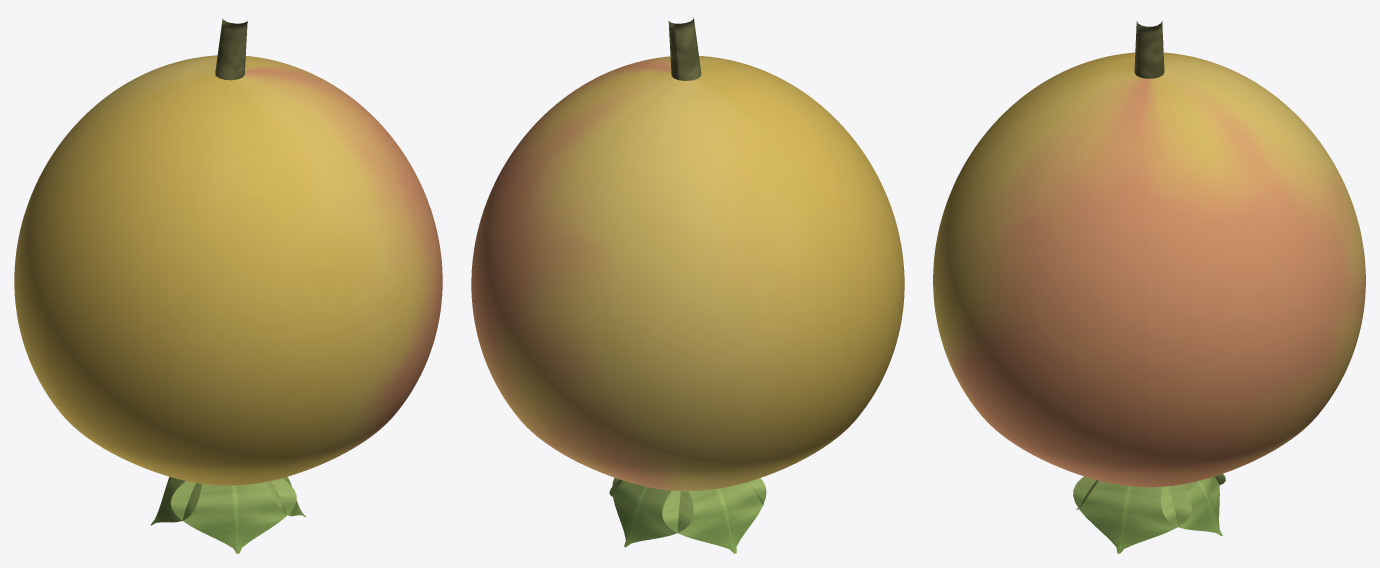
File: jamrosa.glb
The picture shows the model from 3 angles, left to right: view 1: azimuth 30°, elevation 25°; view 2: azimuth 150°, elevation 25°; view 3: azimuth 270°, elevation 25°; orthographic projection.
Parts seen in each view (by area): view 1: entier_peau, moitie_A_peau, moitie_B_peau, entier_extra1, entier_extra4, entier_extra2; view 2: entier_peau, moitie_B_peau, moitie_A_peau, entier_extra2, entier_extra3, entier_extra4; view 3: entier_peau, moitie_A_peau, moitie_B_peau, entier_extra0, entier_extra3, entier_extra4.
Boxes of the visible parts, left/top/right/bottom form: entier_peau: left=14, top=55, right=442, bottom=485; moitie_A_peau: left=43, top=68, right=442, bottom=485; moitie_B_peau: left=14, top=55, right=336, bottom=432; entier_extra1: left=170, top=478, right=296, bottom=553; entier_extra4: left=215, top=18, right=247, bottom=80; entier_extra2: left=151, top=477, right=201, bottom=525; entier_peau: left=471, top=56, right=904, bottom=491; moitie_B_peau: left=471, top=69, right=875, bottom=491; moitie_A_peau: left=579, top=56, right=904, bottom=437; entier_extra2: left=662, top=478, right=766, bottom=553; entier_extra3: left=612, top=477, right=693, bottom=547; entier_extra4: left=668, top=17, right=701, bottom=80; entier_peau: left=933, top=52, right=1365, bottom=487; moitie_A_peau: left=933, top=53, right=1149, bottom=487; moitie_B_peau: left=1149, top=53, right=1365, bottom=487; entier_extra0: left=1073, top=476, right=1191, bottom=553; entier_extra3: left=1161, top=476, right=1222, bottom=536; entier_extra4: left=1134, top=21, right=1164, bottom=78.
Bounding box in the file's own units: 0.0441 × 0.0569 × 0.0441.
4 materials, 4 textured.
